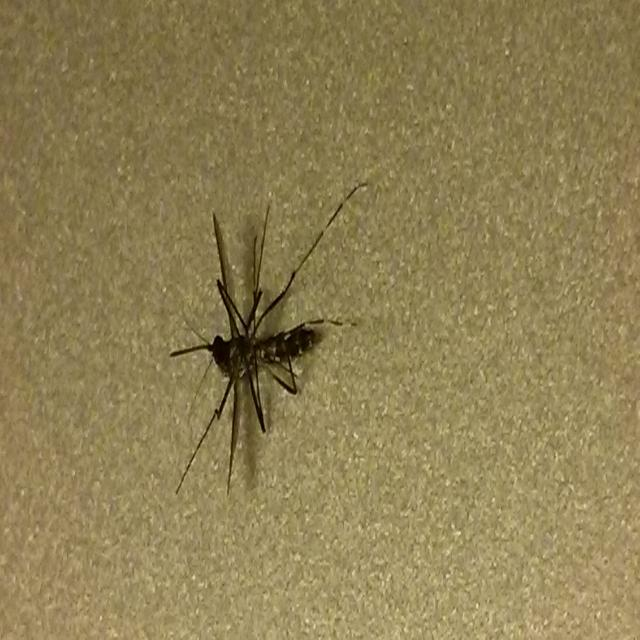albopictus: (165, 166, 358, 506)
